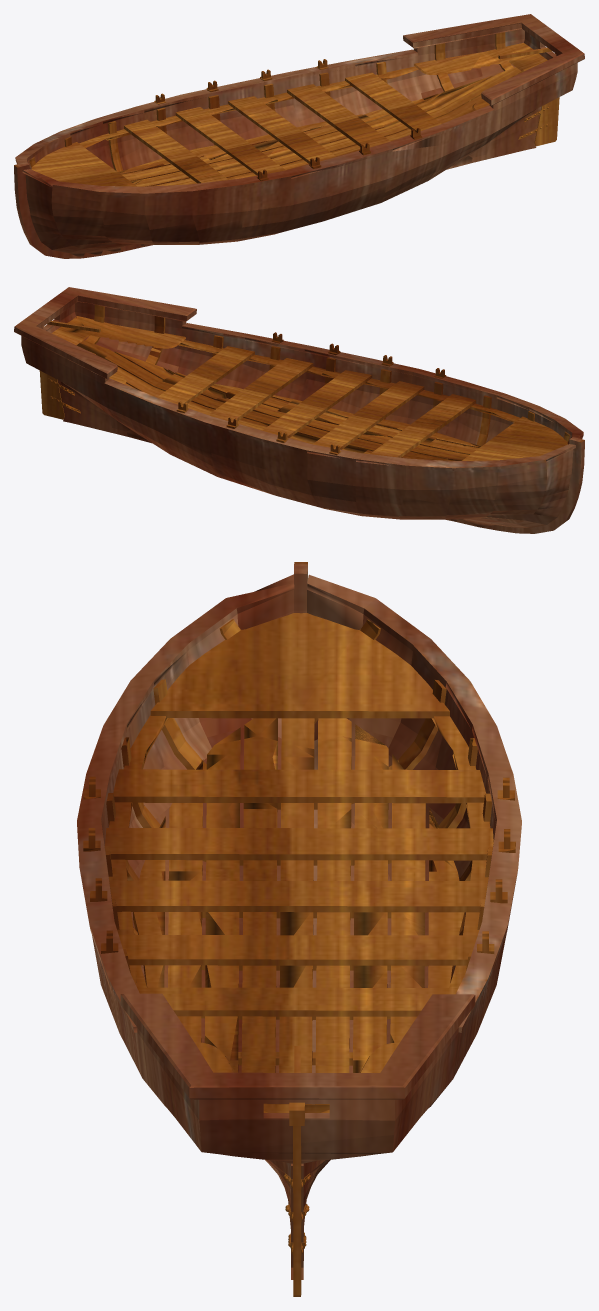
File: chuan.fbx
3 views of the same model, one above another, from view 1: azimuth 30°, elevation 25°; view 2: azimuth 150°, elevation 25°; view 3: azimuth 270°, elevation 25° (orthographic). The views are drawn at different scales.
Visible parts, largest first — view 1: chuan1:polySurface69; view 2: chuan1:polySurface69; view 3: chuan1:polySurface69.
Boxes of the visible parts, <box> form: chuan1:polySurface69: <box>14,14,584,258</box>; chuan1:polySurface69: <box>14,287,584,533</box>; chuan1:polySurface69: <box>77,562,521,1296</box>.
Size of the model in its own units: 46.54 by 9.16 by 16.42.
